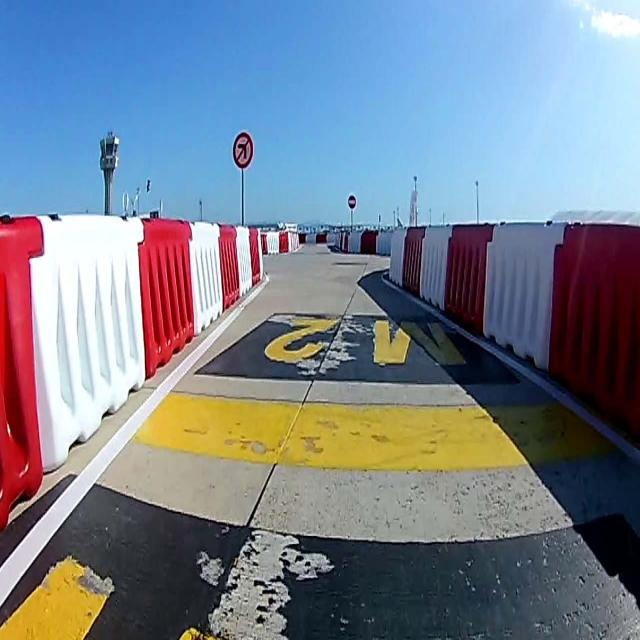girisyok: (348, 195, 356, 209)
soladonulmez: (232, 131, 254, 169)
